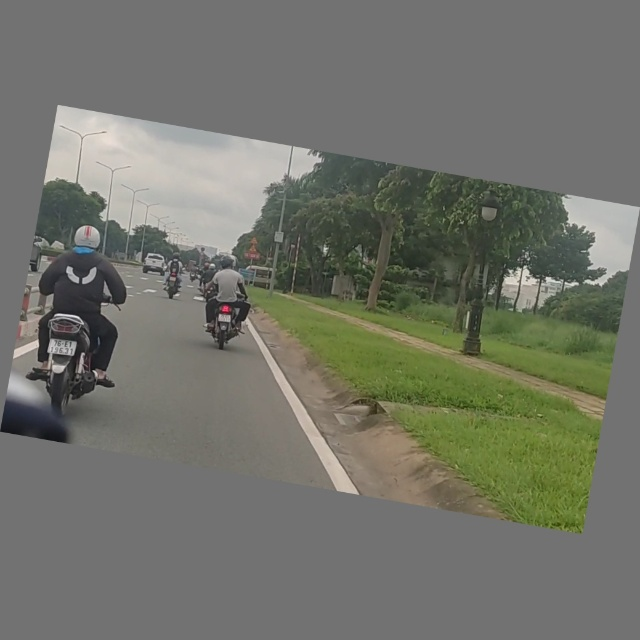W.245a: (250, 236, 260, 245)
W.246a: (248, 245, 259, 253)
